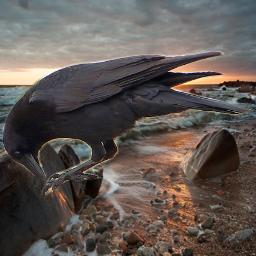Crow: (2, 51, 254, 198)
